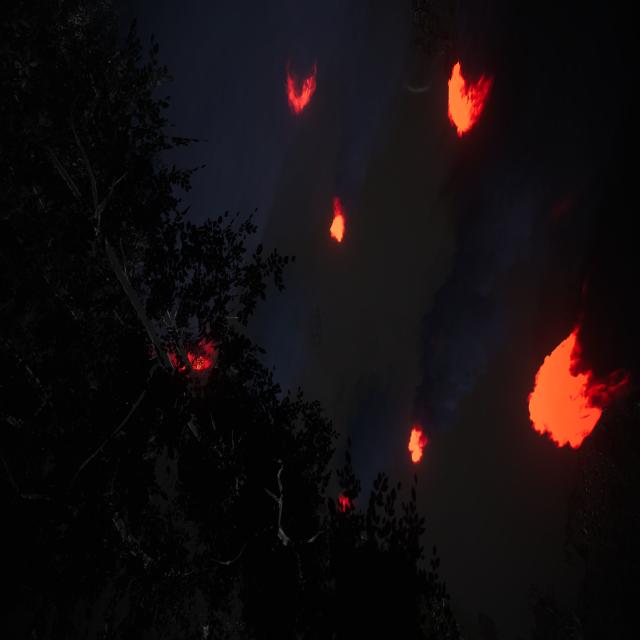Human: (302, 302, 326, 358)
